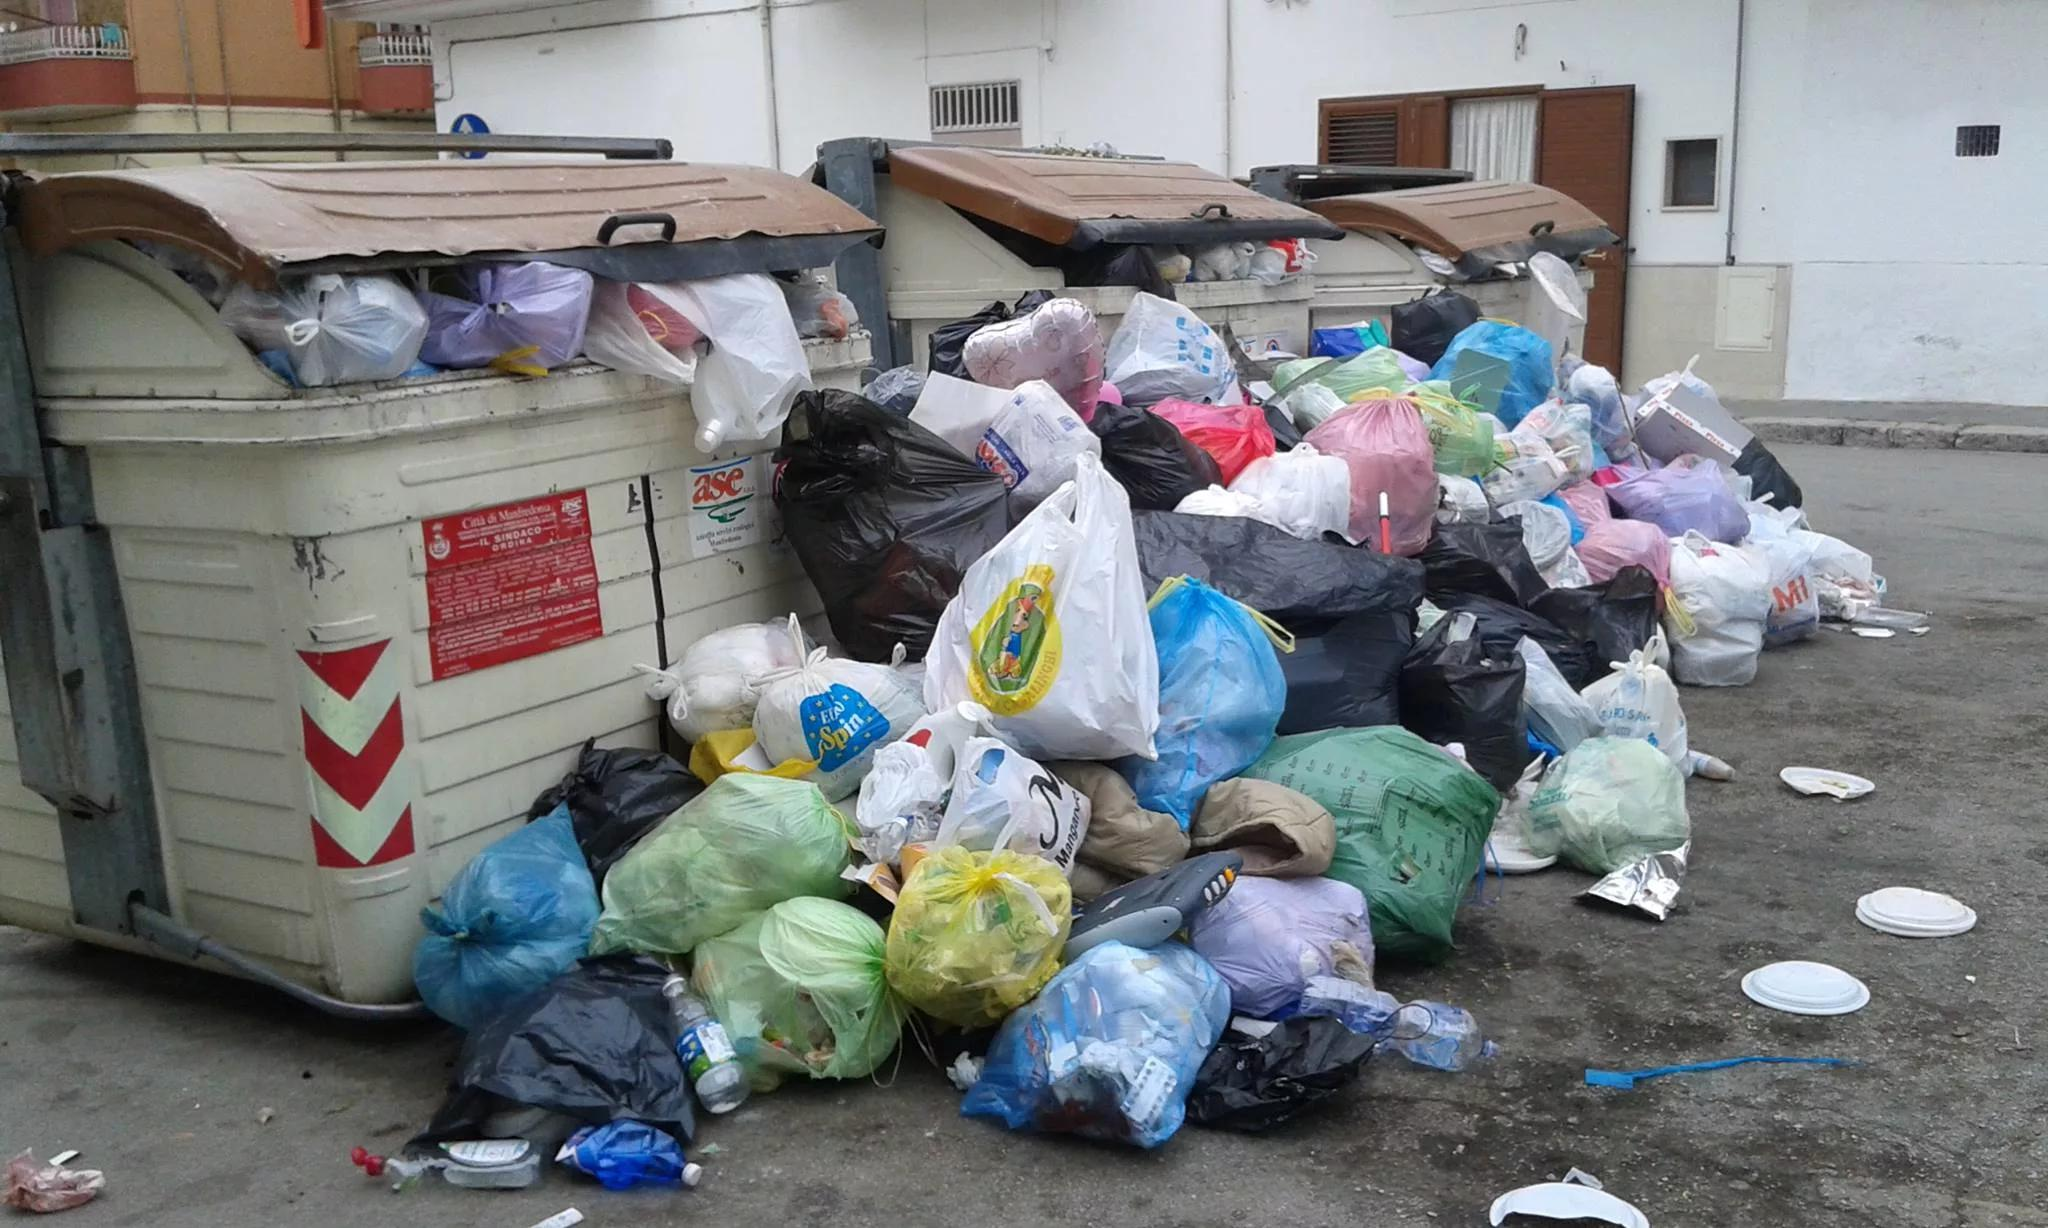Container: (7, 124, 868, 998), (810, 107, 1351, 374), (1262, 145, 1628, 344)
Garbage: (528, 744, 1719, 1228), (865, 330, 1680, 955), (1120, 395, 1854, 766), (1443, 311, 2026, 678), (409, 804, 778, 1213), (1552, 709, 1960, 1073), (634, 613, 922, 789), (1307, 384, 1446, 561), (1324, 405, 1452, 576), (1626, 447, 1778, 569), (1134, 300, 1259, 398), (1535, 379, 1614, 480)
